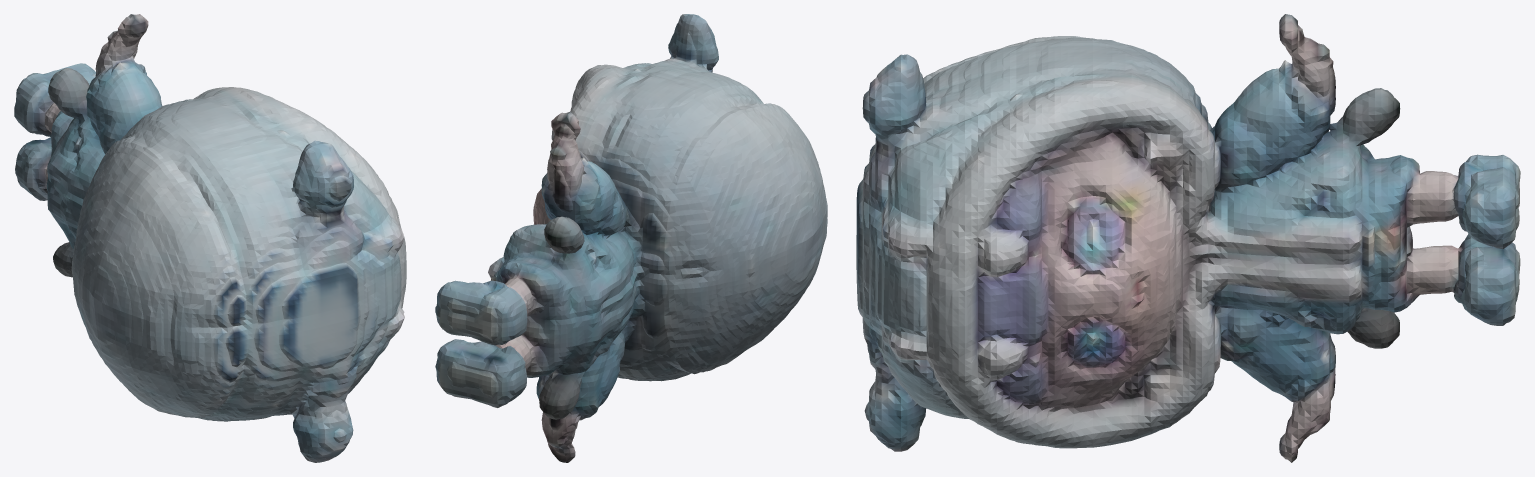
The model's file is doll_output.glb.
3 renders of one model, left to right at view 1: azimuth 30°, elevation 25°; view 2: azimuth 150°, elevation 25°; view 3: azimuth 270°, elevation 25°, orthographic. The views are drawn at different scales.
Visible parts, largest first — view 1: world; view 2: world; view 3: world.
Part boxes in pixels (x1=…): world: x1=14, y1=14, x2=406, y2=462; world: x1=435, y1=14, x2=827, y2=462; world: x1=856, y1=14, x2=1520, y2=462.
Bounding box in the file's own units: 0.5629 × 0.6967 × 0.9449.
